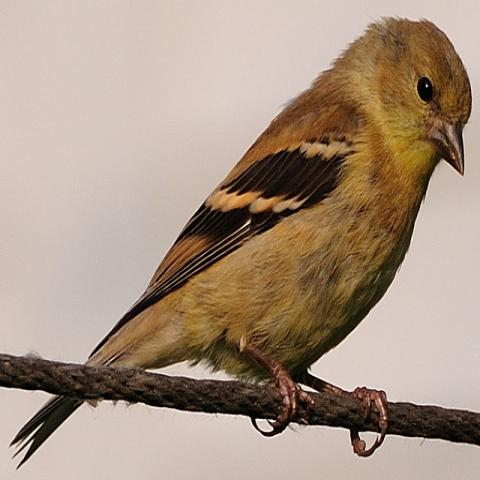bird: (8, 14, 472, 468)
